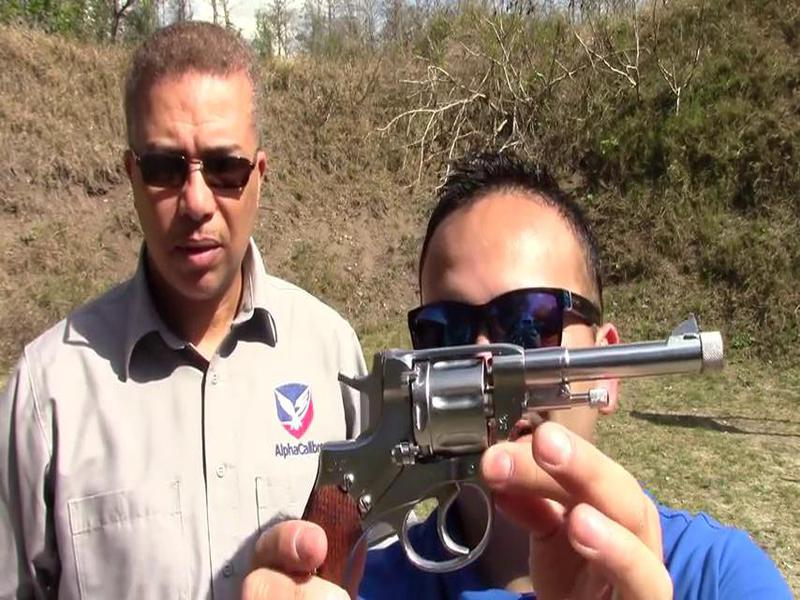Revolver: (283, 293, 738, 600)
